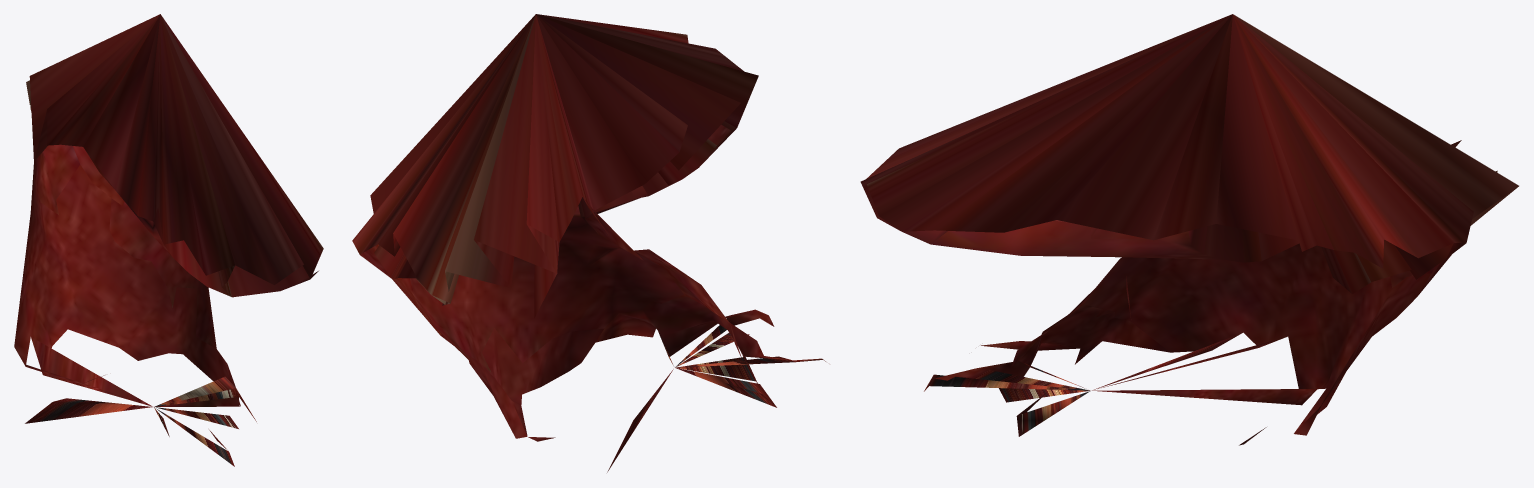
The model's file is dragon_leg_bnegx.glb.
The picture shows the model from 3 angles, left to right: view 1: azimuth 30°, elevation 25°; view 2: azimuth 150°, elevation 25°; view 3: azimuth 270°, elevation 25°; orthographic projection. The views are drawn at different scales.
Bounding box in the file's own units: 2.53 × 3.43 × 4.55.
Materials: 1 (1 with a texture image).
